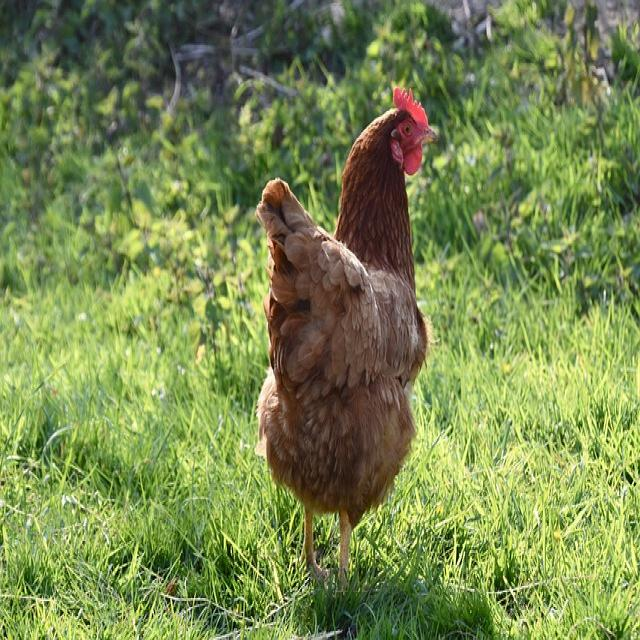Chicken: (234, 48, 526, 602)
